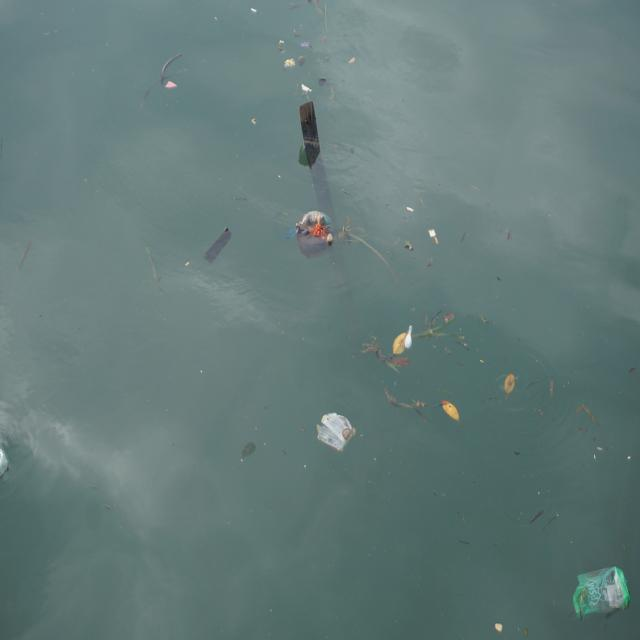Bungkus Makanan: (572, 561, 631, 623), (317, 410, 358, 456)
Kantong Plastik: (289, 209, 337, 260)
